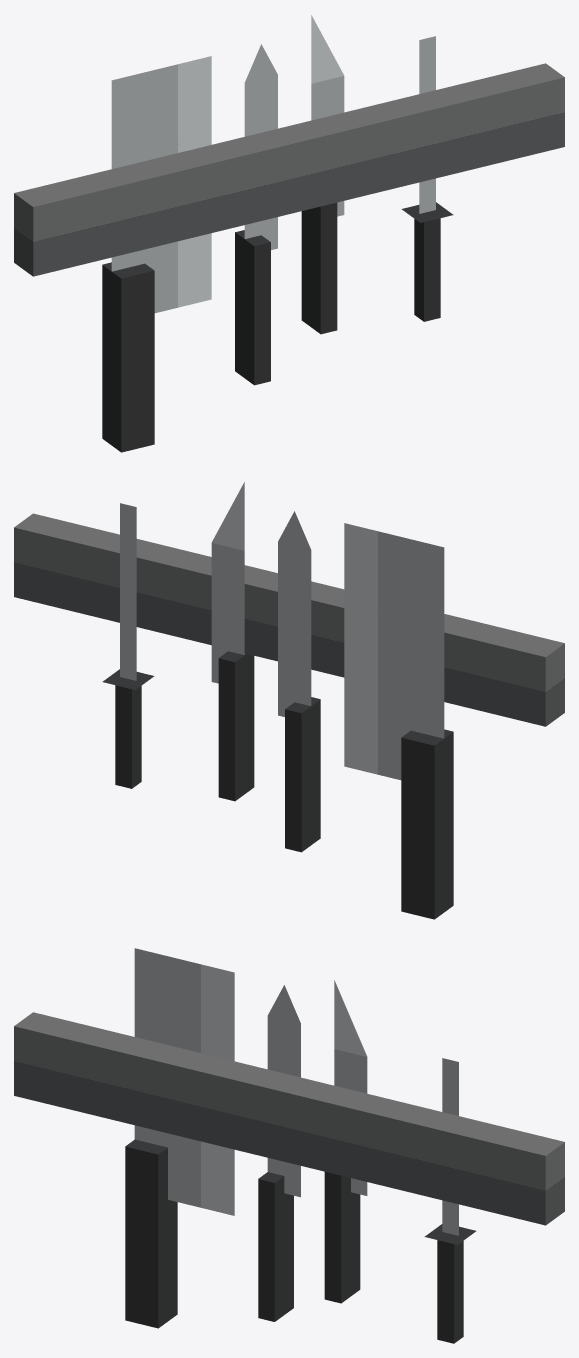
The model's file is knives.obj.
3 views of the same model, one above another, from view 1: azimuth 30°, elevation 25°; view 2: azimuth 150°, elevation 25°; view 3: azimuth 330°, elevation 25° (orthographic).
Parts seen in each view (by area): view 1: cube, plane; view 2: plane, cube; view 3: cube, plane.
Part boxes in pixels (x1,y1,x2,y2): cube: (14, 63, 564, 276); plane: (102, 15, 453, 452); plane: (102, 482, 453, 919); cube: (14, 513, 564, 726); cube: (14, 1012, 564, 1225); plane: (125, 948, 476, 1343).
Size of the model in its own units: 1 by 0.6875 by 0.1.
